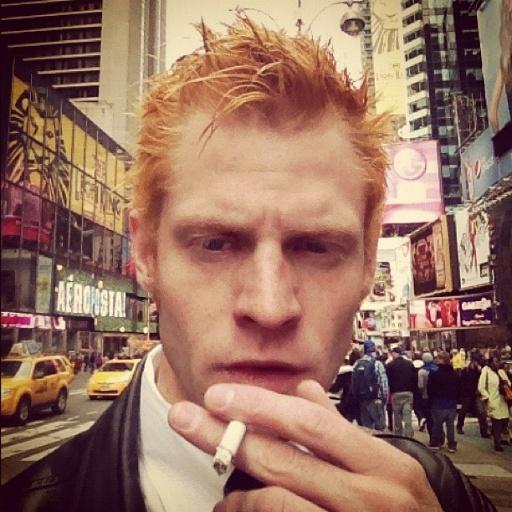hand: (138, 375, 463, 507)
